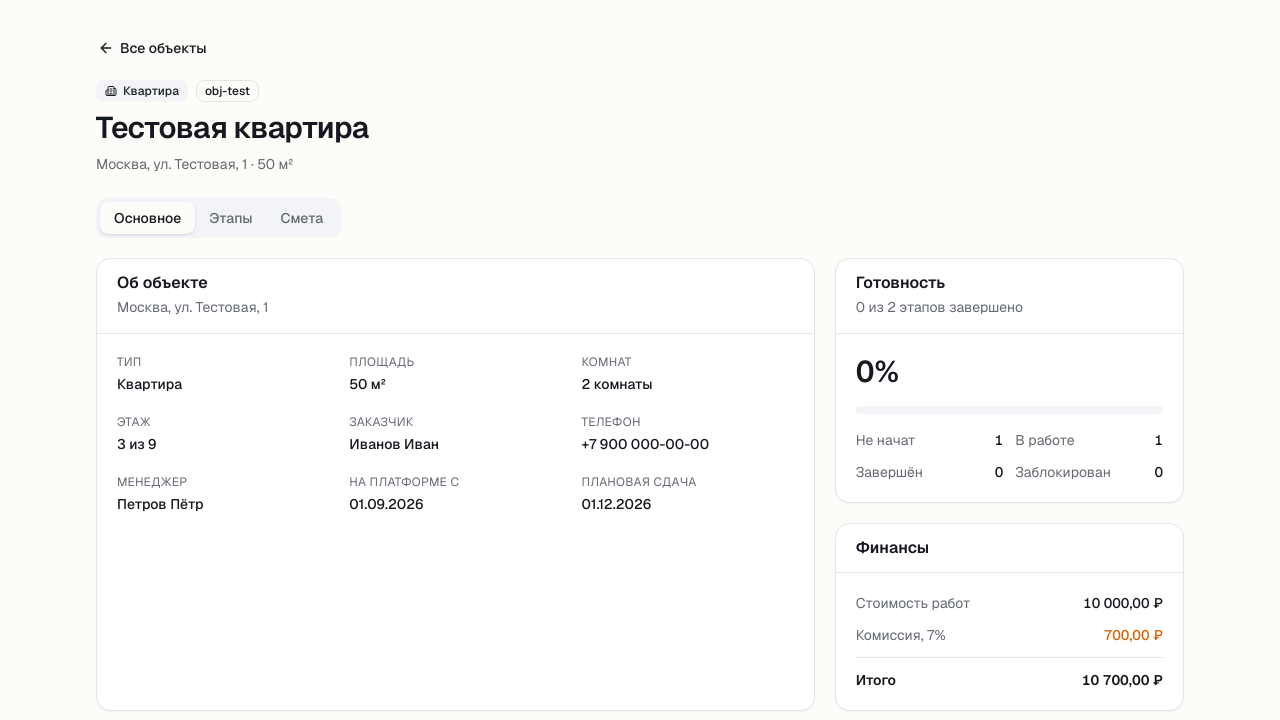
Test case: ObjectPassportView · смена статуса этапа › применяет переход и обновляет список этапов
The width and height of the screenshot is (1280, 720).
Click the tab "Этапы": click(231, 218) top-left (195, 202), bottom-right (266, 234)
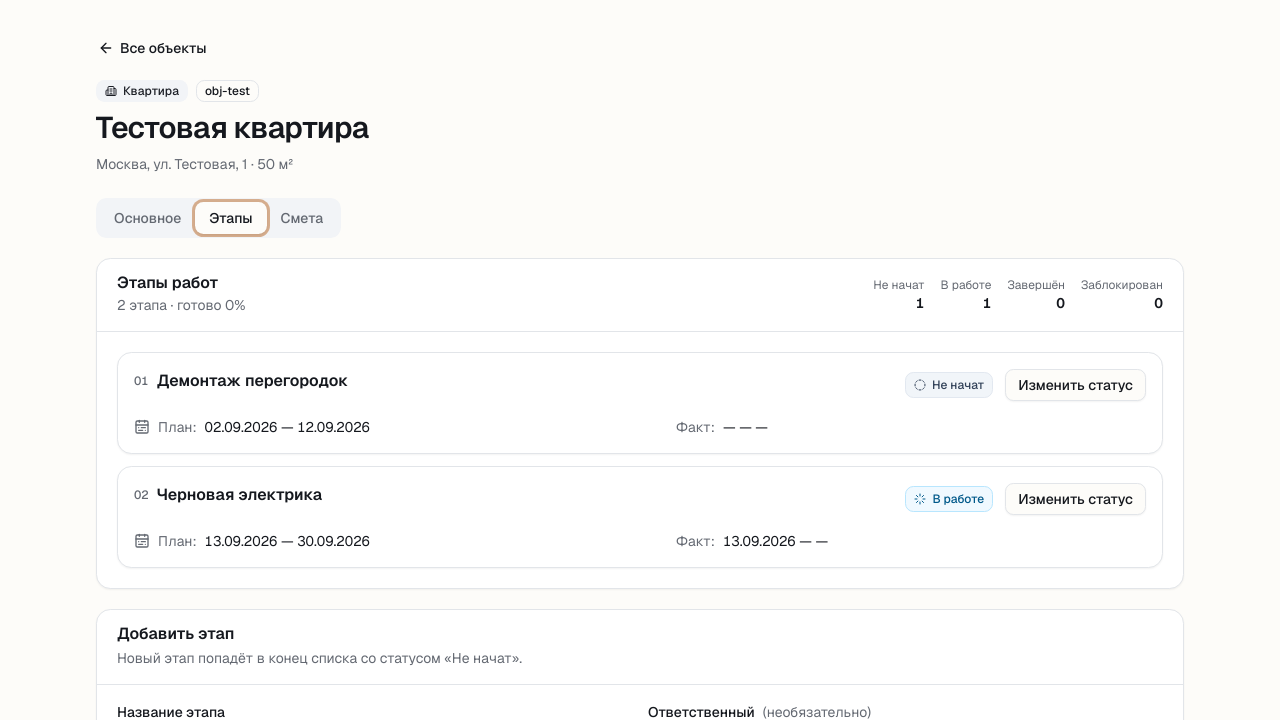
Click the button "Изменить статус" in the row of "Демонтаж перегородок": click(1076, 385) top-left (1005, 369), bottom-right (1146, 401)
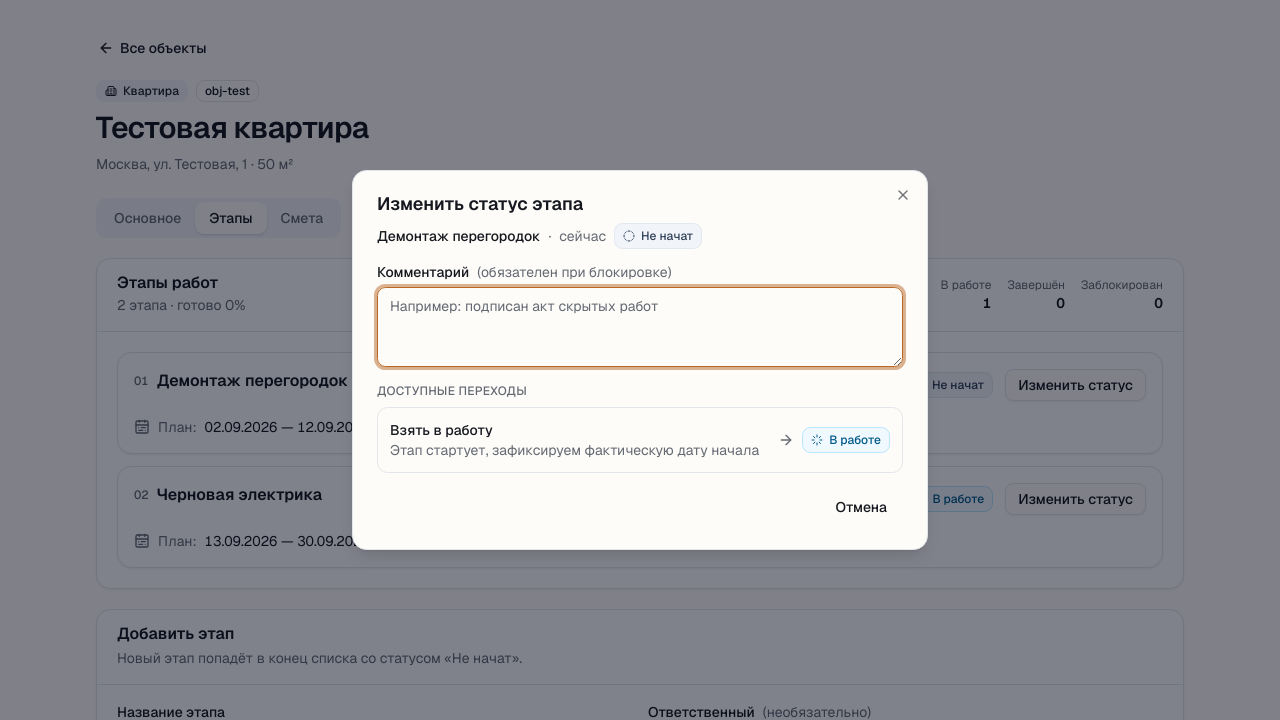
Click the button with test id "transition-in_progress": click(640, 440) top-left (377, 407), bottom-right (903, 473)
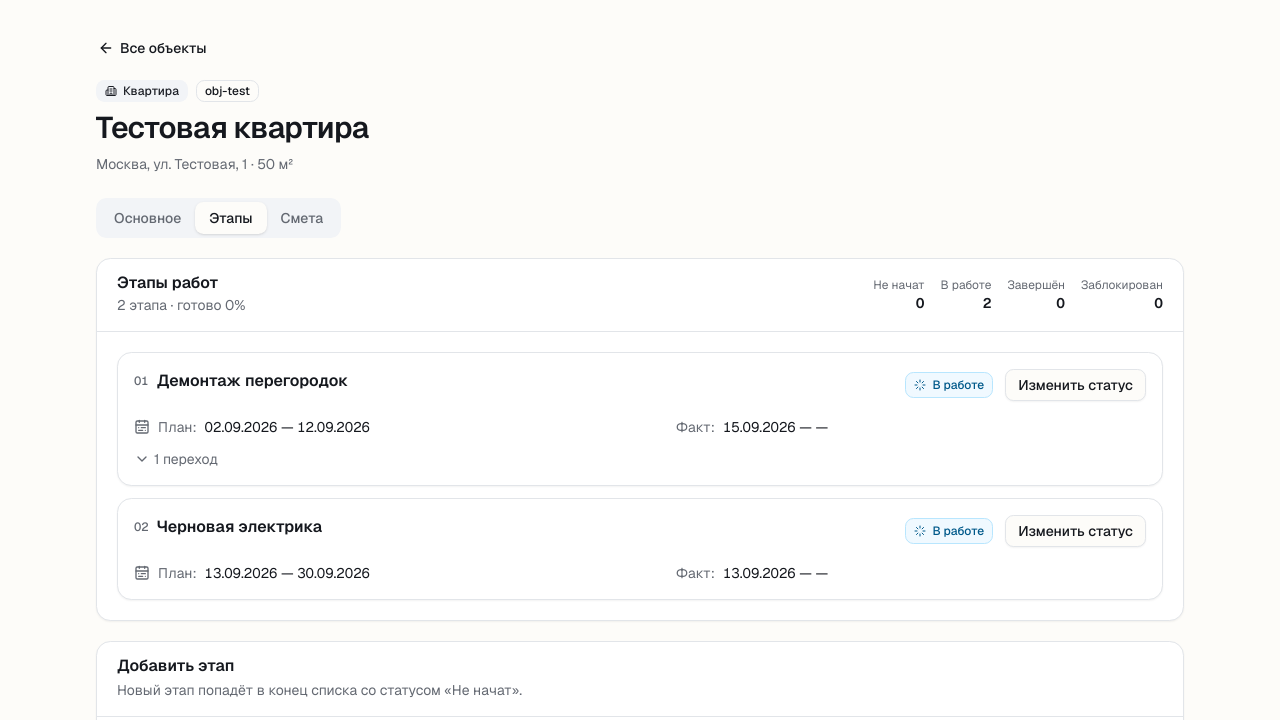
Result: the dialog is gone
